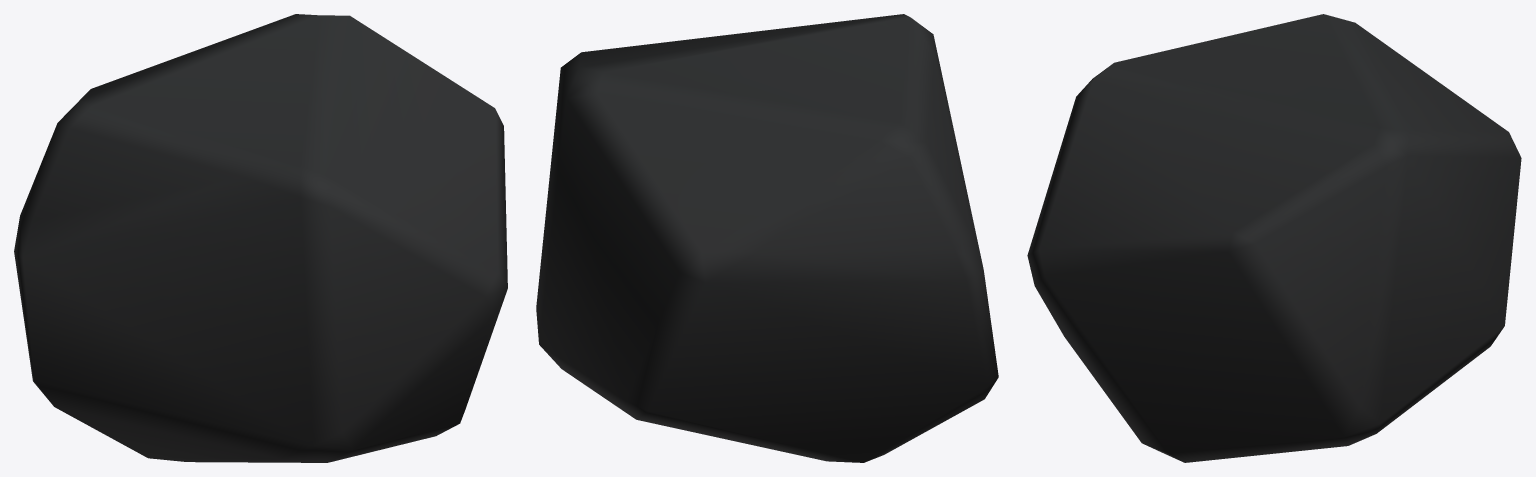
The model's file is StoneSmall_005.glb.
The picture shows the model from 3 angles, left to right: view 1: azimuth 30°, elevation 25°; view 2: azimuth 150°, elevation 25°; view 3: azimuth 270°, elevation 25°; orthographic projection. The views are drawn at different scales.
Parts seen in each view (by area): view 1: StoneSmall_005; view 2: StoneSmall_005; view 3: StoneSmall_005.
Part boxes in pixels (left/top/right/bottom): StoneSmall_005: left=14, top=14, right=507, bottom=462; StoneSmall_005: left=536, top=14, right=998, bottom=462; StoneSmall_005: left=1027, top=14, right=1521, bottom=462.
Size of the model in its own units: 1.06 by 0.8207 by 1.07.
1 material, 1 textured.
